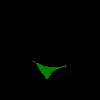mutande: (33, 60, 66, 79)
